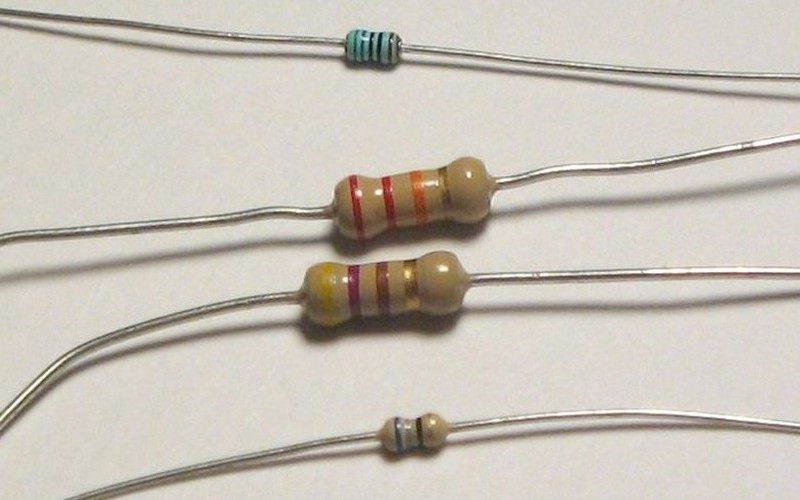Resistor: (241, 135, 522, 340), (291, 11, 429, 77), (346, 400, 467, 466)
